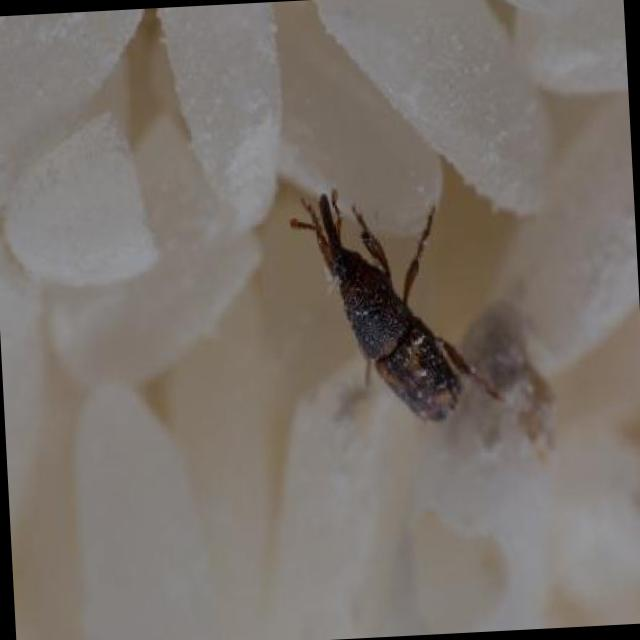rice-bug: (307, 176, 475, 434)
